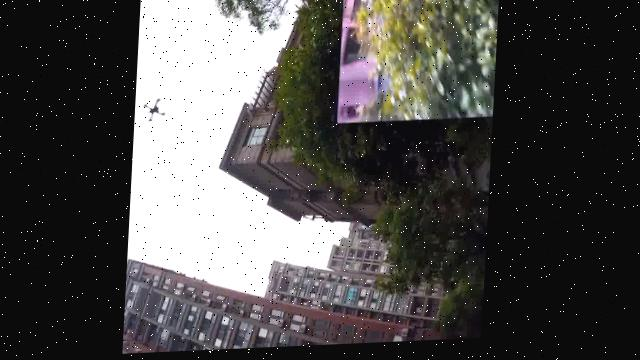drone: (135, 99, 169, 130)
